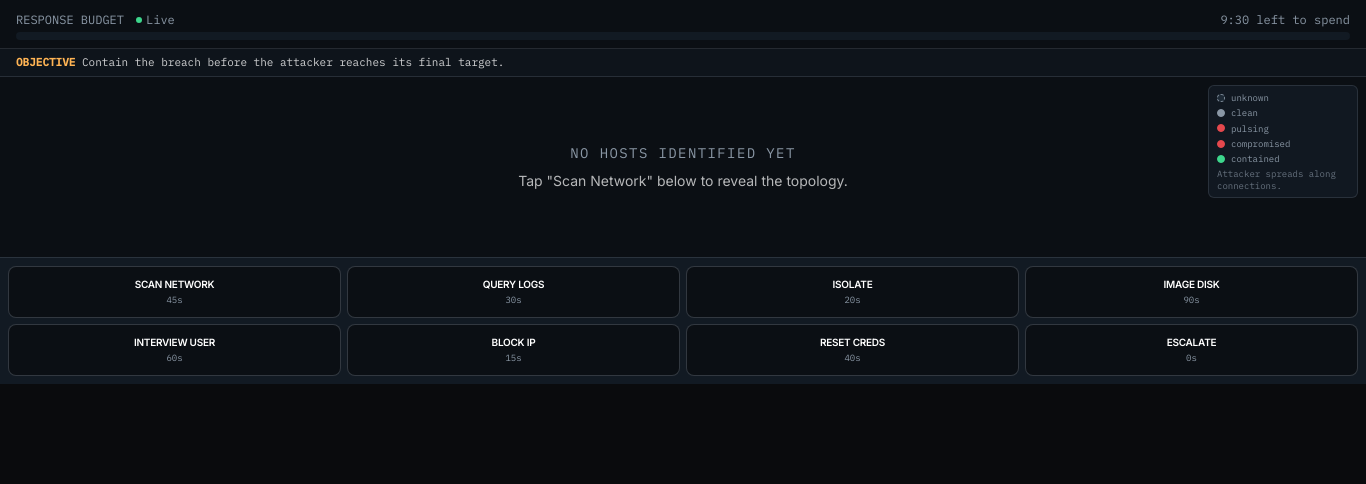
ActionConsole › shows a party picker on Escalate, never the warranted answer
Step 1. Click the text "Escalate" → (1192, 342), box [1167,336,1216,349]
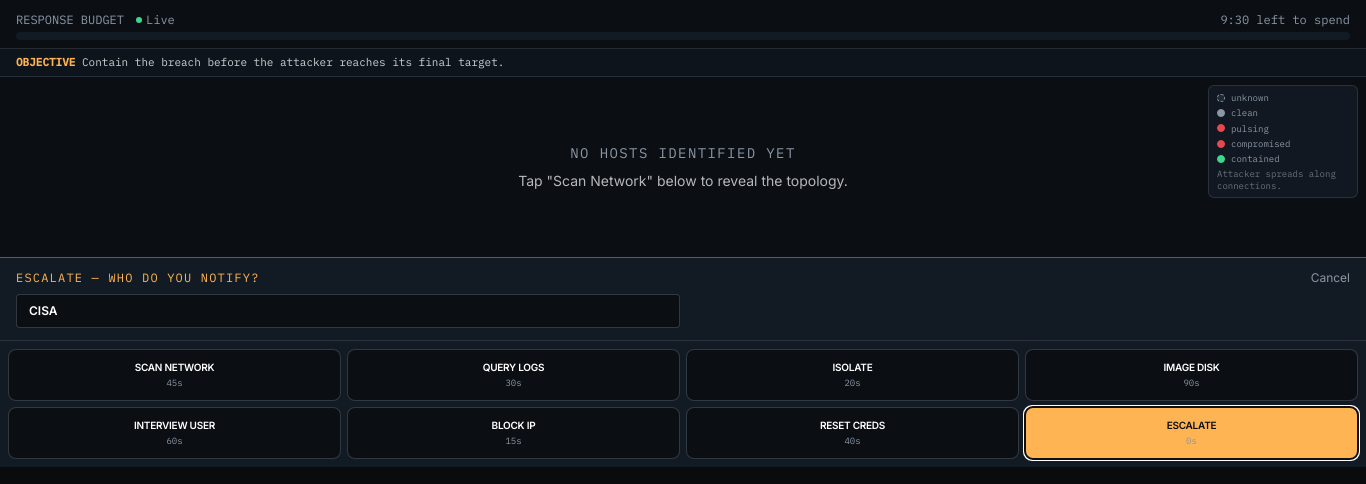
Result: the text "CISA" is shown at [29,303,58,318]
